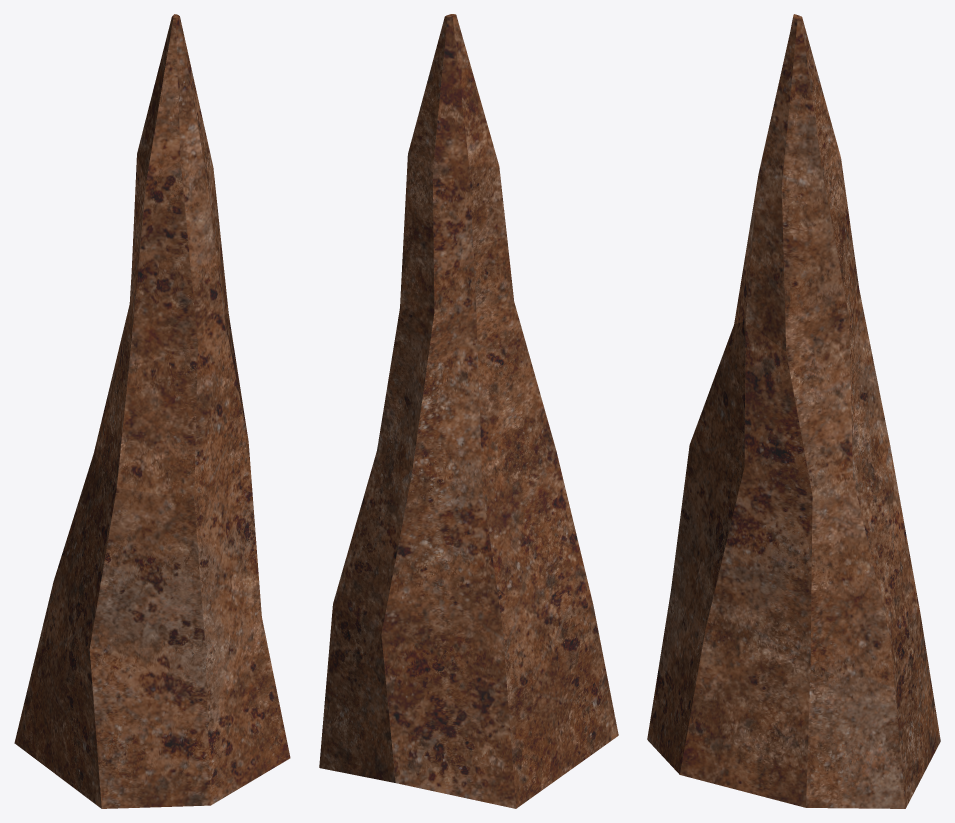
Rendered from rock1.glb.
3 views of the same model, side by side, from view 1: azimuth 30°, elevation 25°; view 2: azimuth 150°, elevation 25°; view 3: azimuth 270°, elevation 25° (orthographic). The views are drawn at different scales.
Visible parts, largest first — view 1: Stal01; view 2: Stal01; view 3: Stal01.
Boxes of the visible parts, bbox=[...] form: Stal01: bbox=[14, 14, 290, 808]; Stal01: bbox=[319, 14, 618, 808]; Stal01: bbox=[647, 14, 940, 808].
Bounding box in the file's own units: 0.7925 × 2.51 × 0.8873.
1 material, 1 textured.
